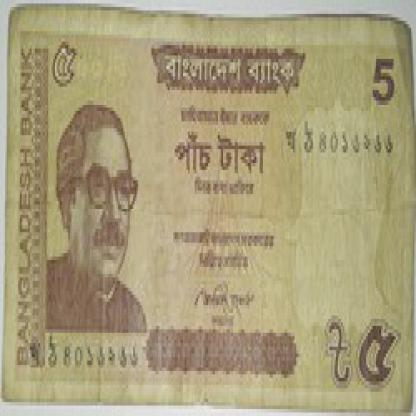Five Taka: (169, 118, 270, 187), (354, 305, 398, 395), (45, 31, 81, 94), (368, 48, 401, 114)
